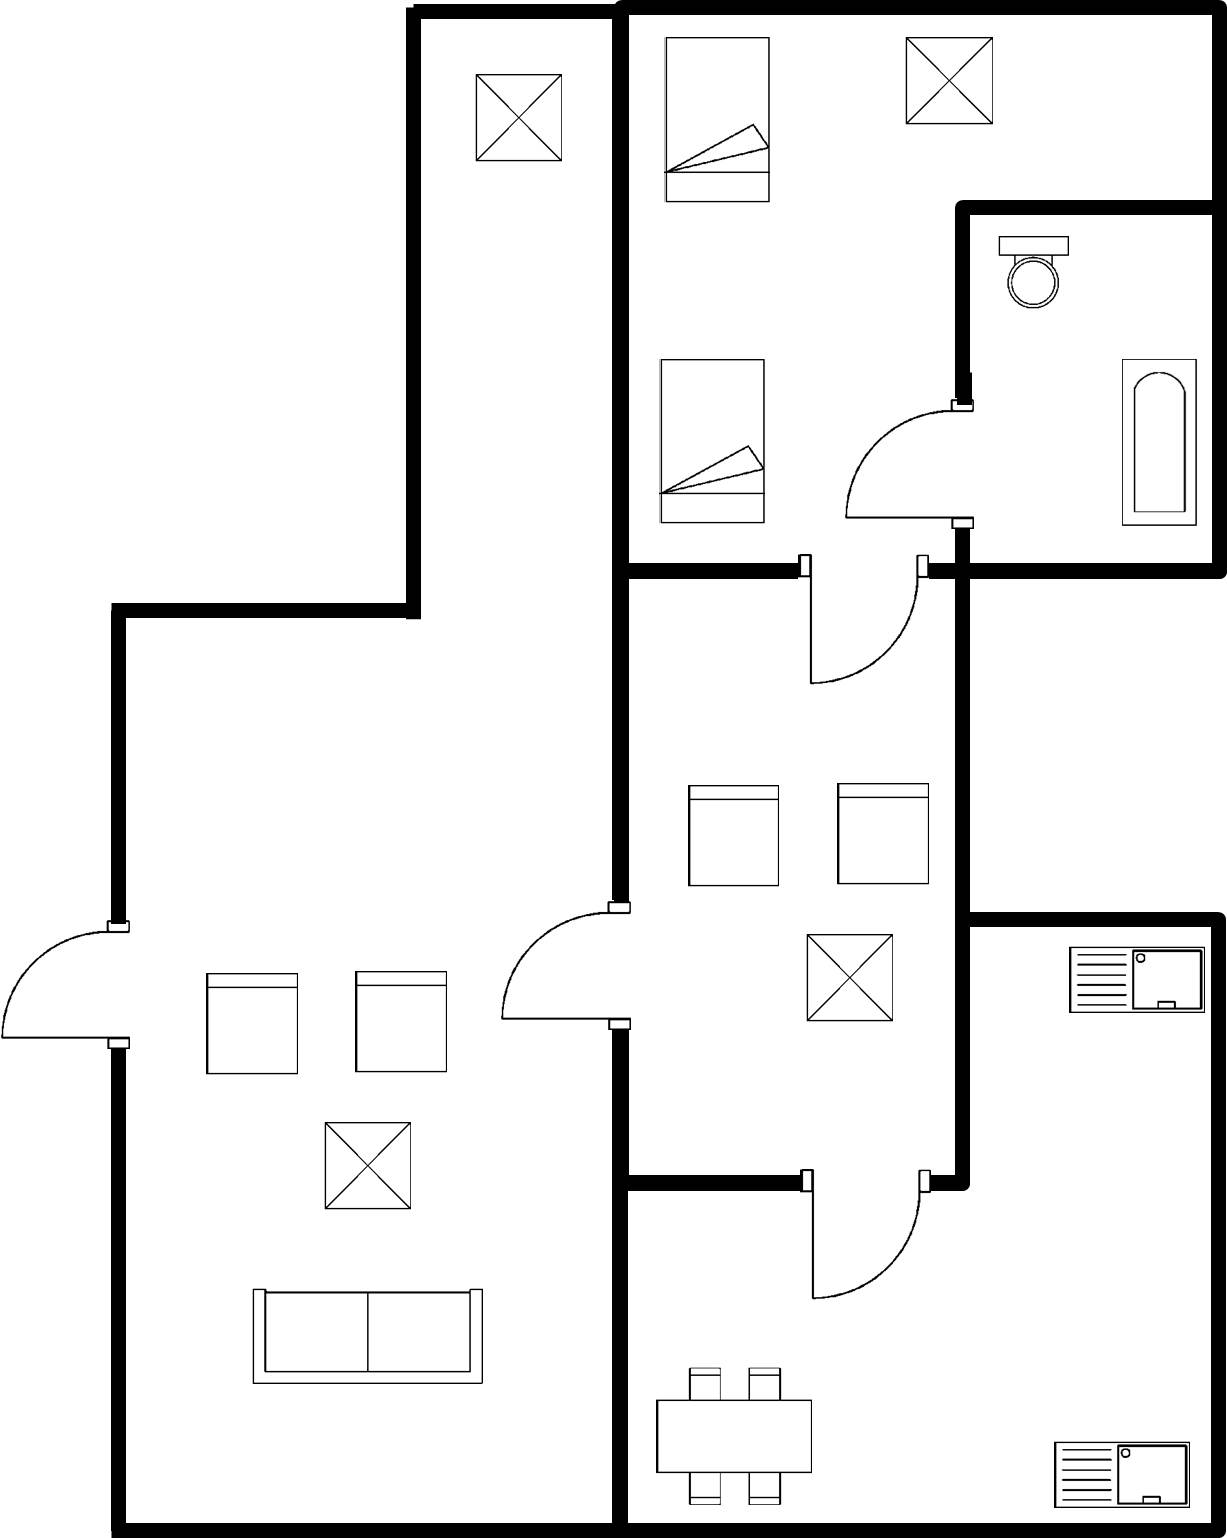bed: (647, 350, 778, 537), (656, 26, 780, 214)
coffee_table: (466, 64, 574, 179), (896, 28, 1007, 138), (313, 1111, 420, 1220), (798, 925, 902, 1031)
dining_table: (649, 1358, 825, 1510)
large_sink: (989, 226, 1078, 320)
large_sofa: (243, 1276, 496, 1394)
sink: (1056, 935, 1214, 1025), (1043, 1435, 1201, 1514)
small_sofa: (193, 964, 314, 1086), (822, 776, 943, 895), (343, 962, 459, 1083), (674, 779, 795, 892)
tub: (1110, 344, 1208, 534)
